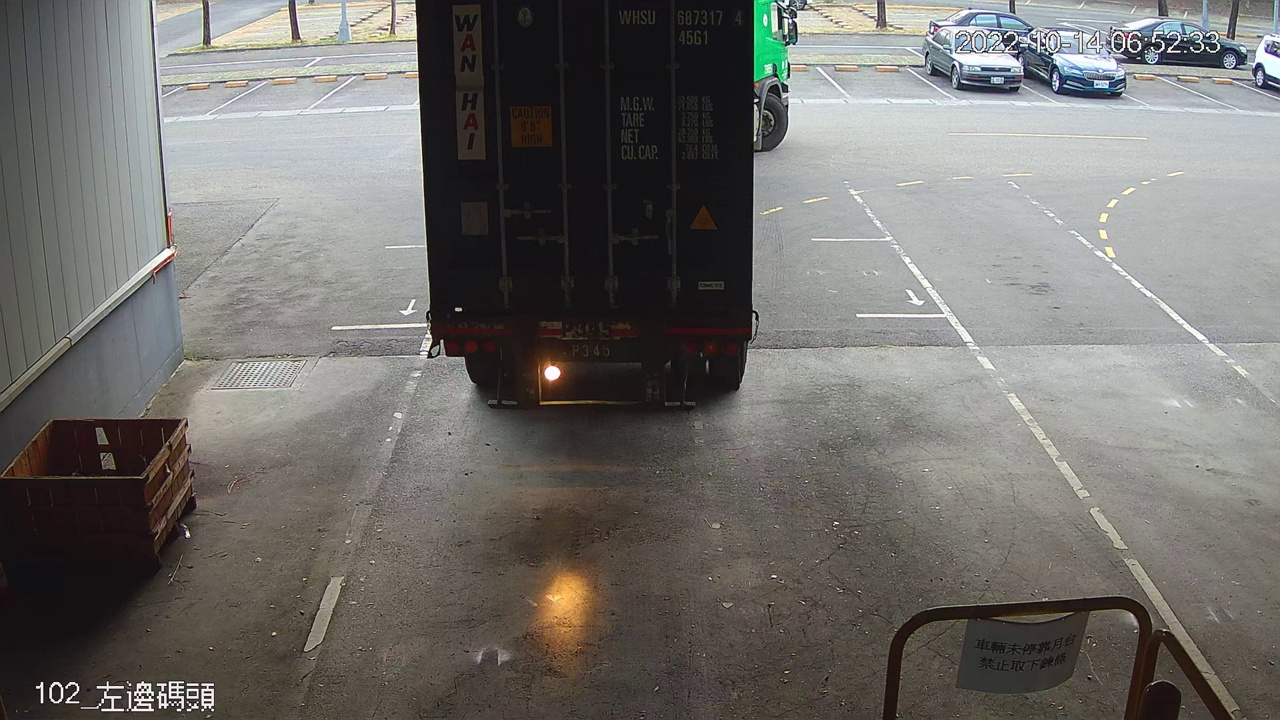container: (613, 3, 749, 49)
